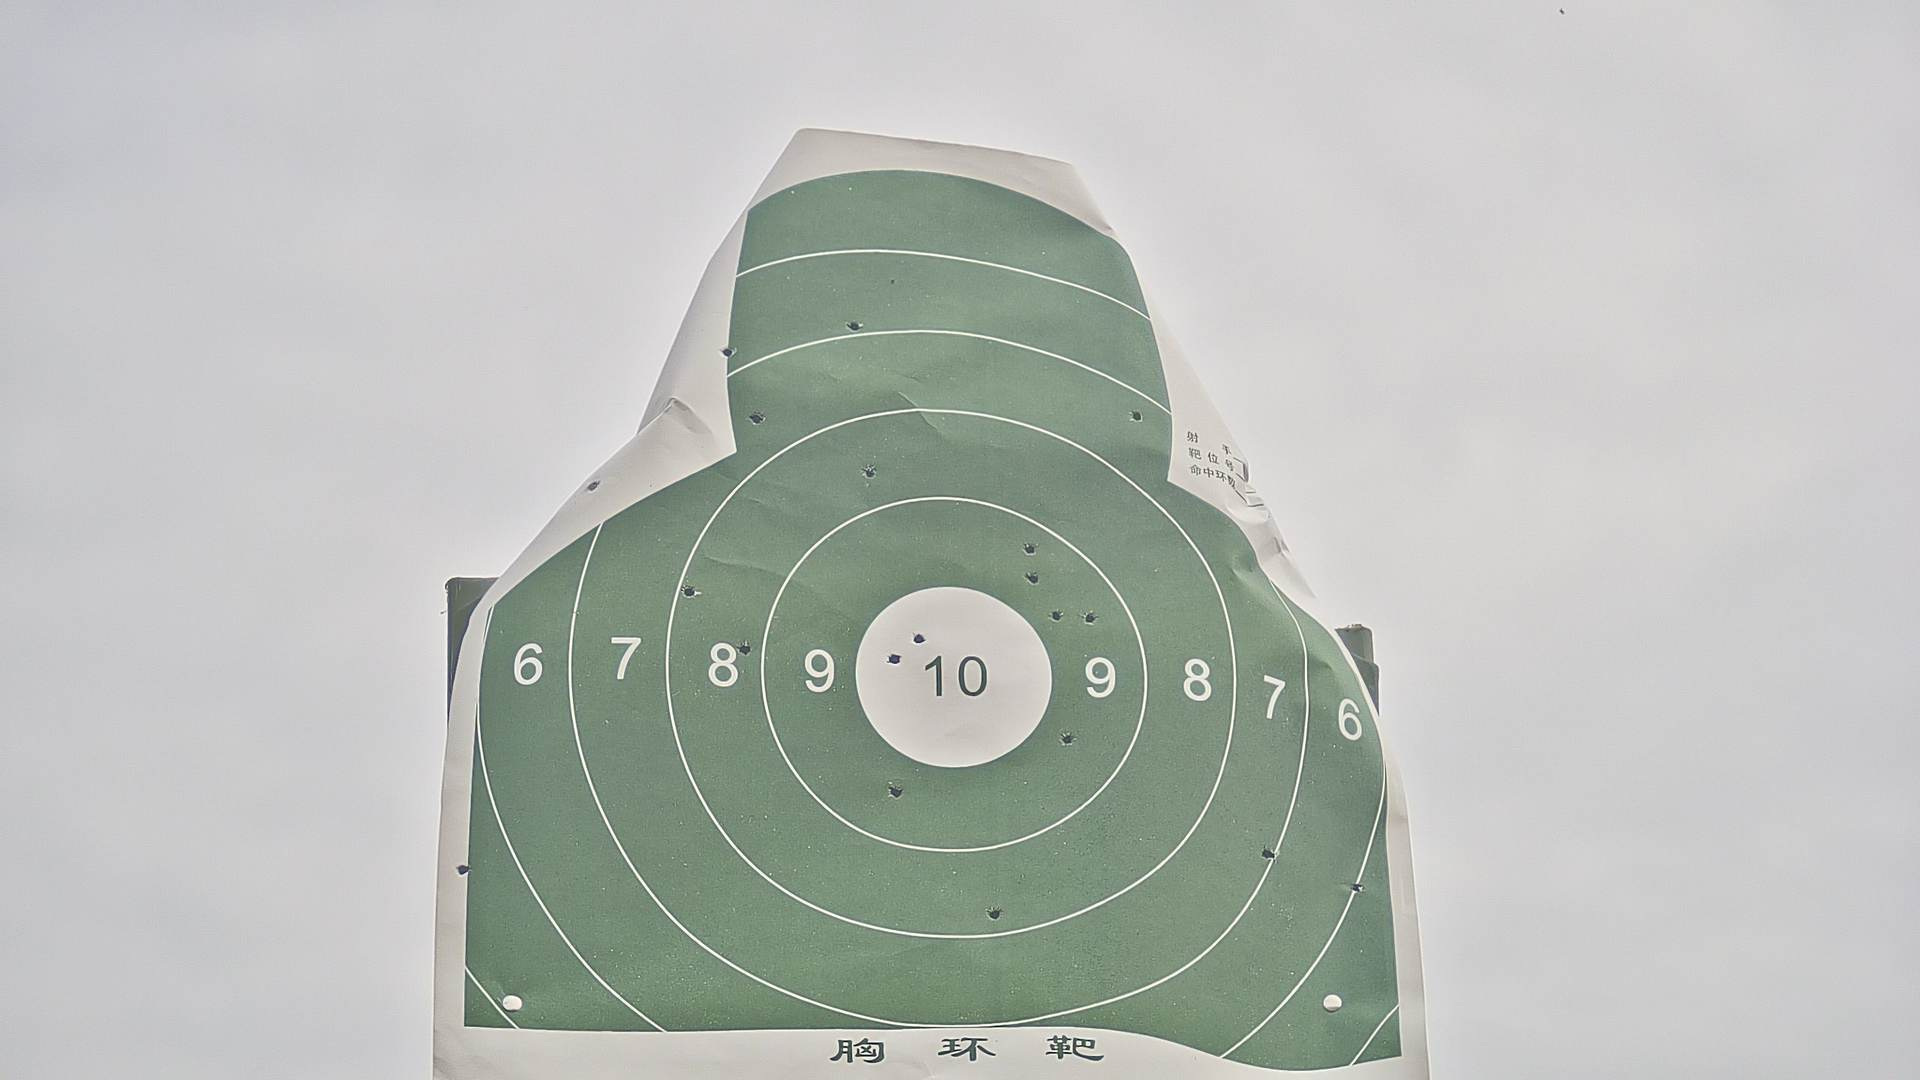hole: (583, 477, 603, 492), (1349, 880, 1366, 894), (454, 862, 472, 876), (1046, 608, 1064, 620), (847, 320, 861, 334), (1026, 572, 1040, 585), (752, 411, 764, 427), (864, 463, 876, 477), (680, 585, 695, 597), (1263, 845, 1275, 860), (737, 642, 749, 655), (1025, 542, 1036, 555), (988, 906, 1000, 919), (1130, 411, 1145, 422), (887, 786, 899, 796), (723, 345, 733, 356), (1062, 732, 1072, 742), (913, 633, 923, 642), (1085, 612, 1095, 622), (890, 655, 899, 665)
kernel: (944, 673, 952, 679)
target: (464, 170, 1402, 1072)
ten: (855, 584, 1052, 769)
